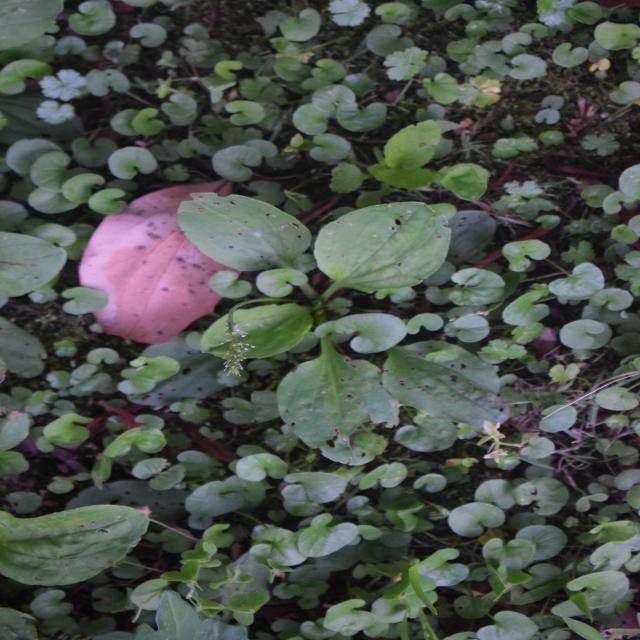plantain: (199, 164, 459, 466)
